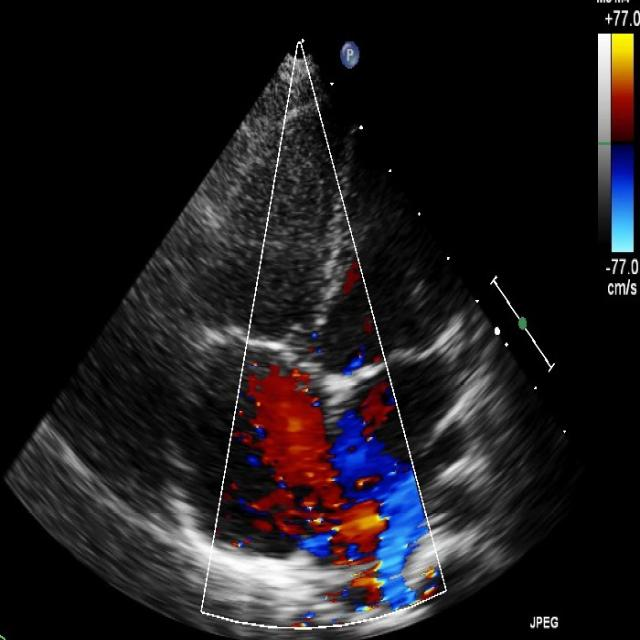ASDType2: (245, 352, 428, 609)
